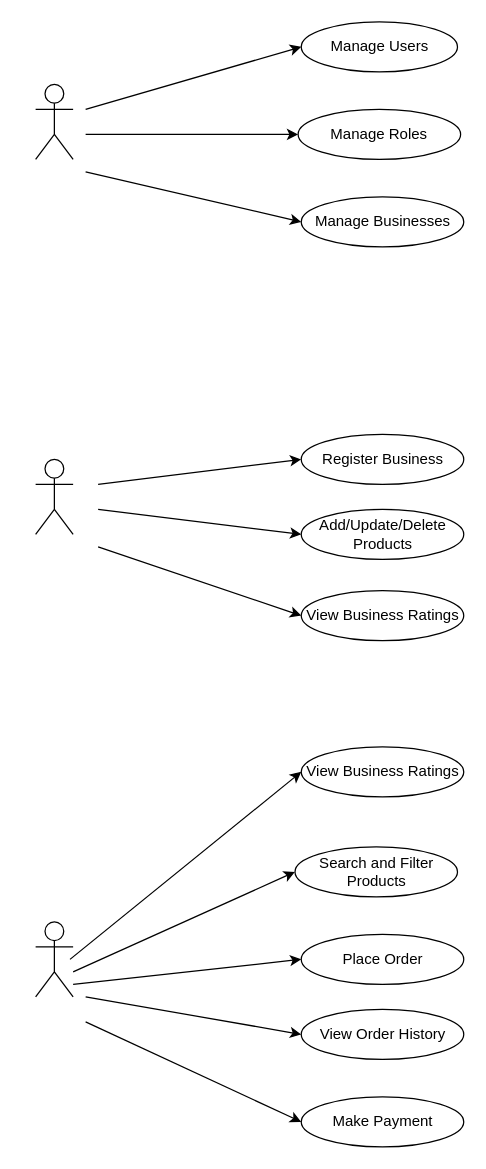
Image size: 486x1169. Some labels were removed from this diagram. The centre of each missing label's shape, as x and y in pixels:
Admin: the point at 53,121
Customer: the point at 53,959
User: the point at 53,496
